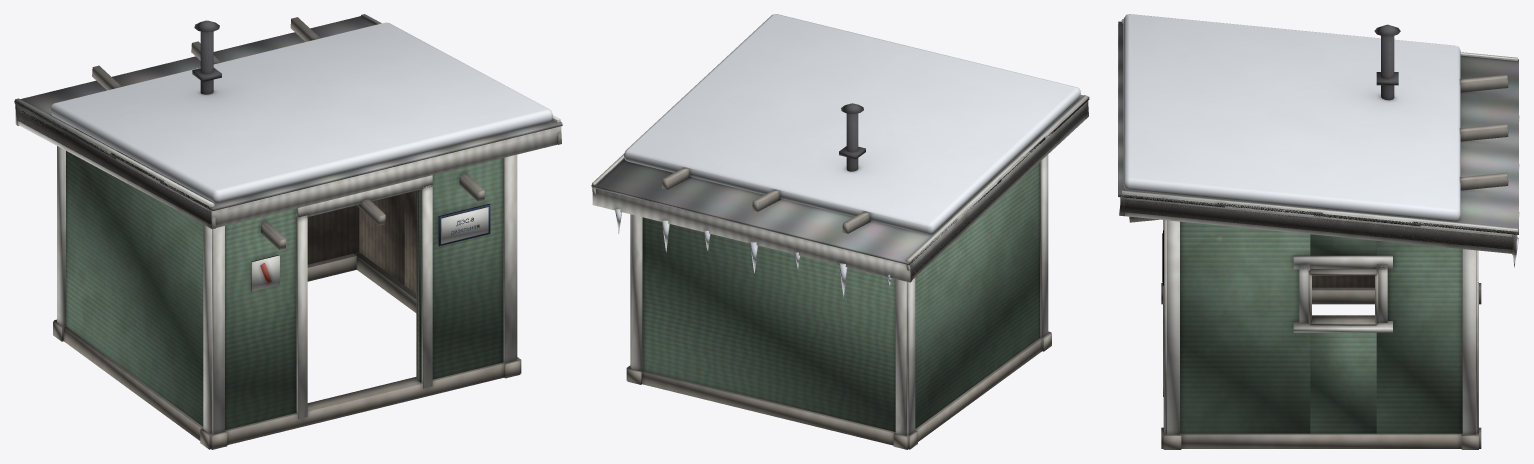
Rendered from gen_shack.glb.
3 views of the same model, side by side, from view 1: azimuth 30°, elevation 25°; view 2: azimuth 150°, elevation 25°; view 3: azimuth 270°, elevation 25° (orthographic). The views are drawn at different scales.
Visible parts, largest first — view 1: gen_shack; view 2: gen_shack; view 3: gen_shack.
Boxes of the visible parts, x1,y1,x2,y2 form: gen_shack: (14,14,562,449); gen_shack: (591,14,1089,449); gen_shack: (1118,14,1519,449).
Size of the model in its own units: 3.7 by 3.24 by 3.64.
1 material, 1 textured.
